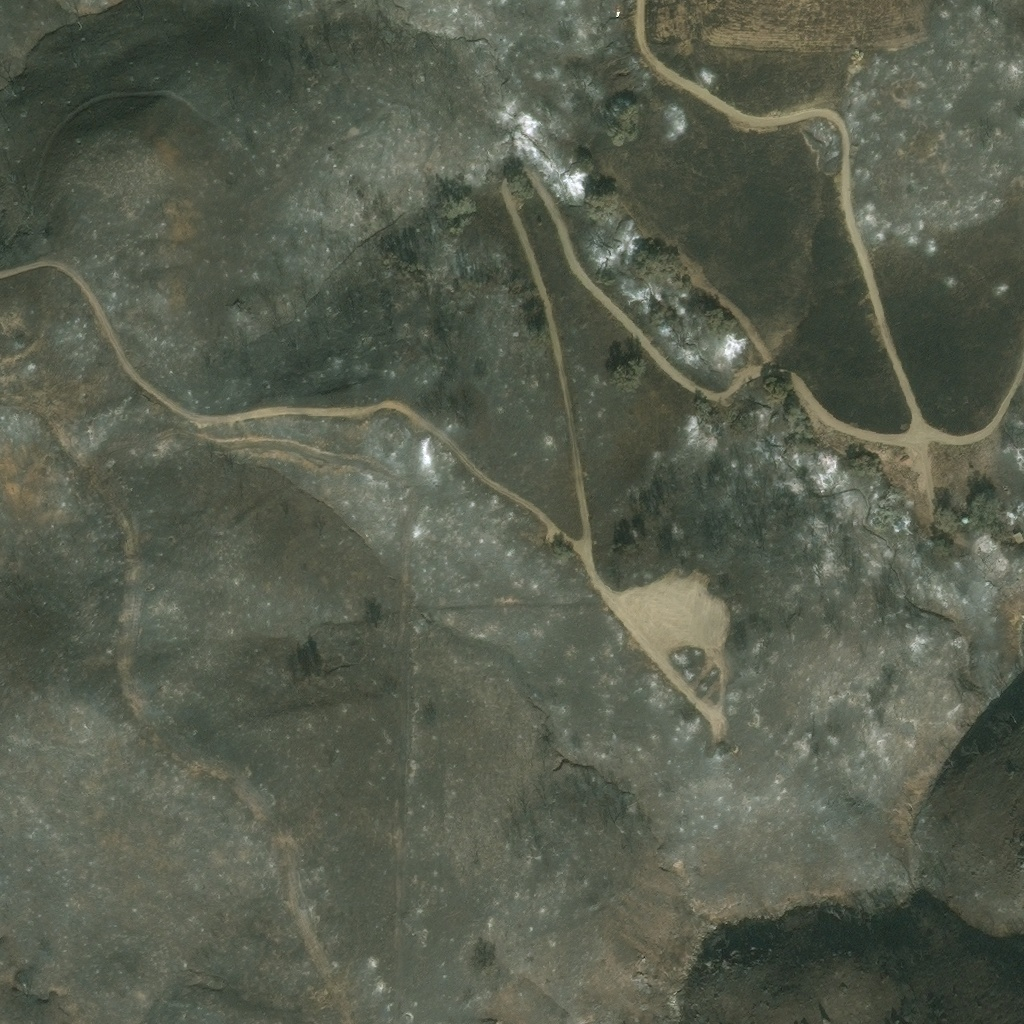0 no-damage: (959, 514, 970, 525)
3 destroyed: (976, 534, 999, 554), (993, 556, 1007, 572)
